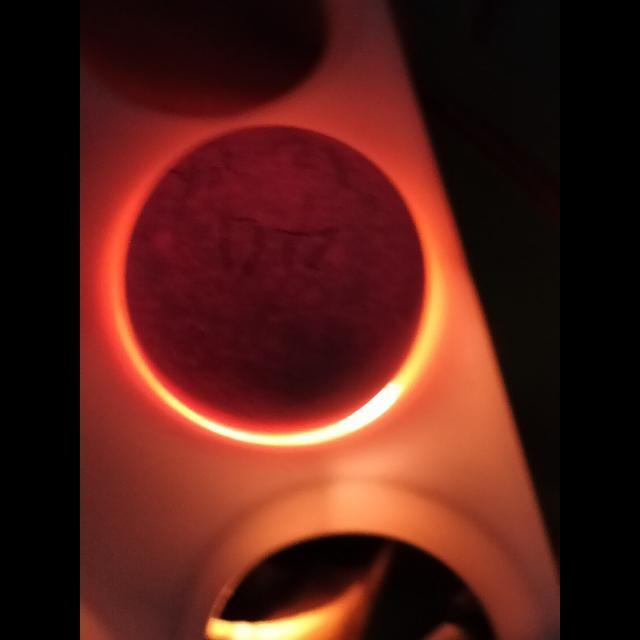Fertile: (108, 128, 434, 424)
